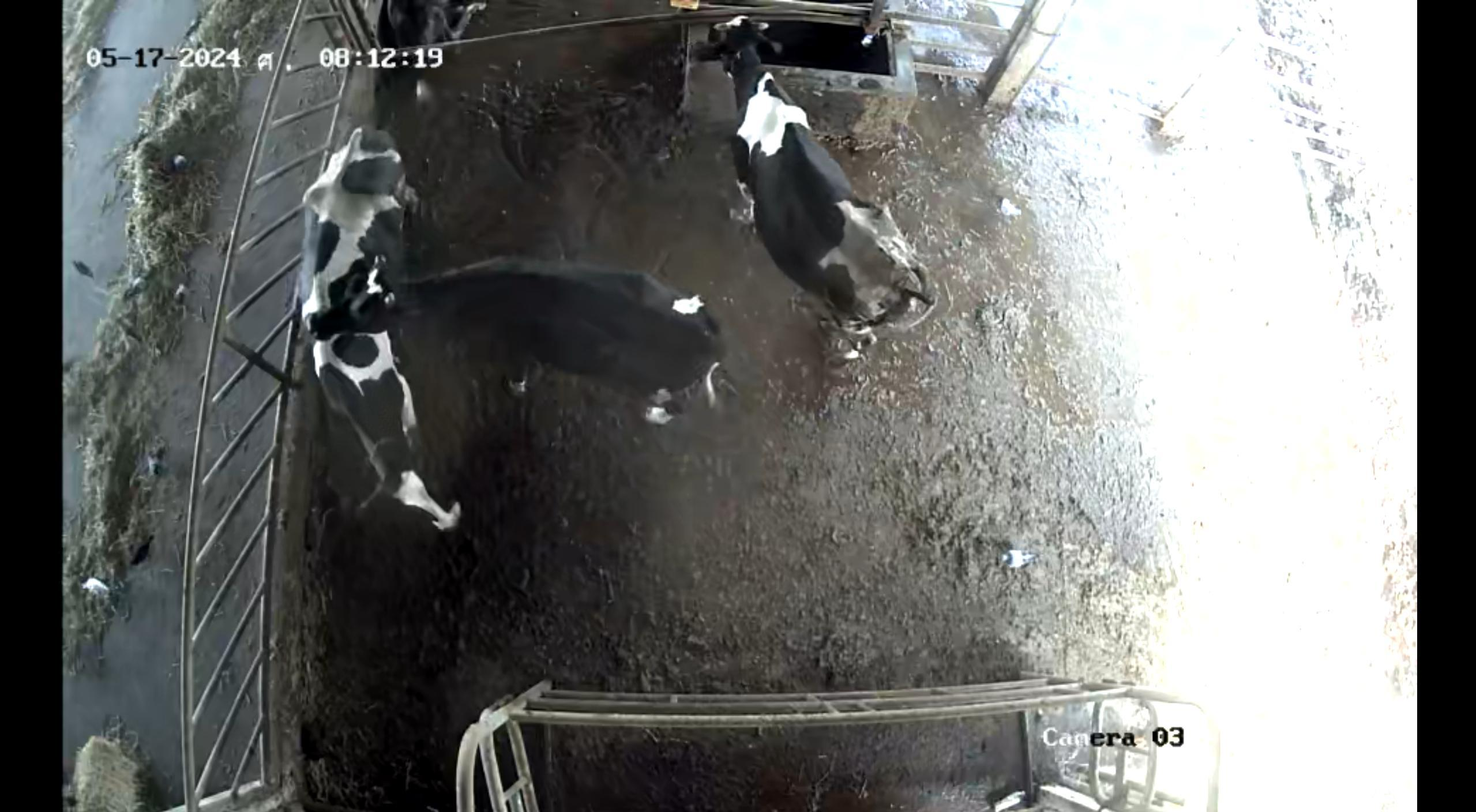drink: (679, 3, 794, 122)
propping: (290, 262, 478, 354)
stand: (279, 115, 481, 549)
